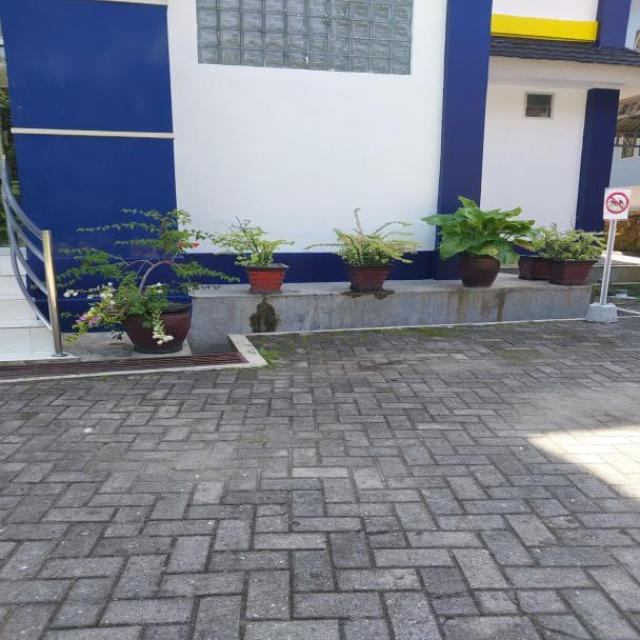plant ahead at: (62, 202, 202, 352), (423, 194, 518, 288), (314, 210, 412, 294), (213, 213, 301, 297), (536, 222, 600, 282)
